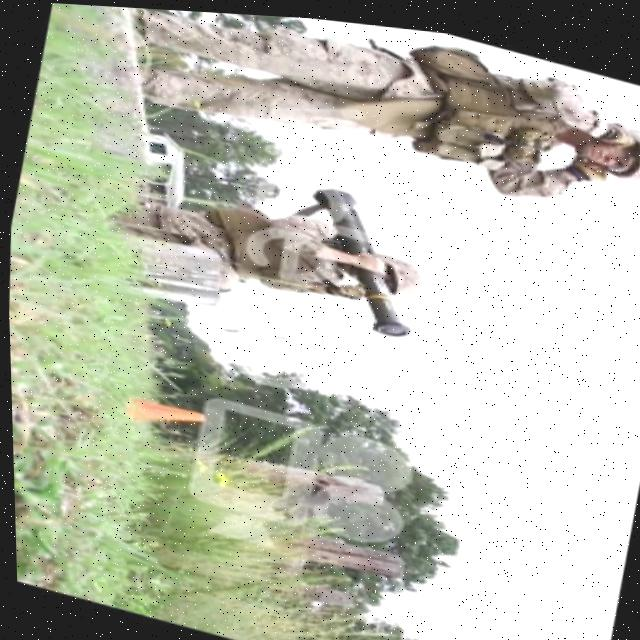rocket: (280, 174, 433, 333)
